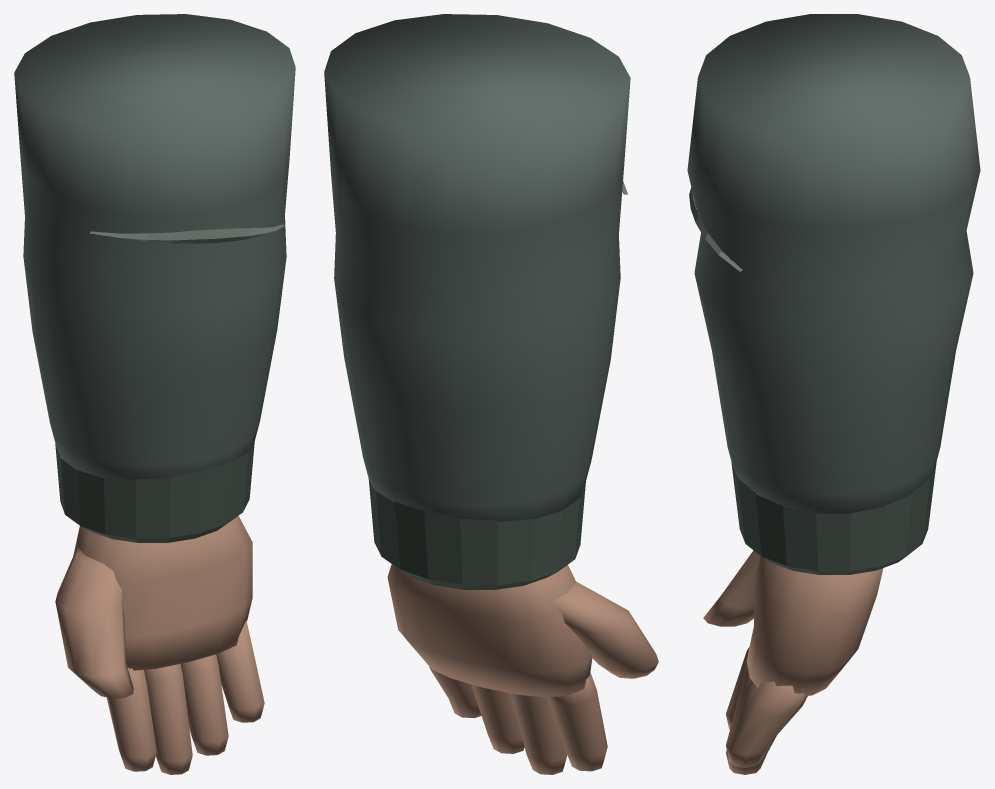
File: NicoForearmR.glb
The picture shows the model from 3 angles, left to right: view 1: azimuth 30°, elevation 25°; view 2: azimuth 150°, elevation 25°; view 3: azimuth 270°, elevation 25°; orthographic projection. The views are drawn at different scales.
Visible parts, largest first — view 1: NicoForearmR; view 2: NicoForearmR; view 3: NicoForearmR.
Boxes of the visible parts, <box> form: NicoForearmR: <box>14,14,295,774</box>; NicoForearmR: <box>324,14,658,774</box>; NicoForearmR: <box>687,14,980,774</box>.
Size of the model in its own units: 0.1714 by 0.44 by 0.168.
